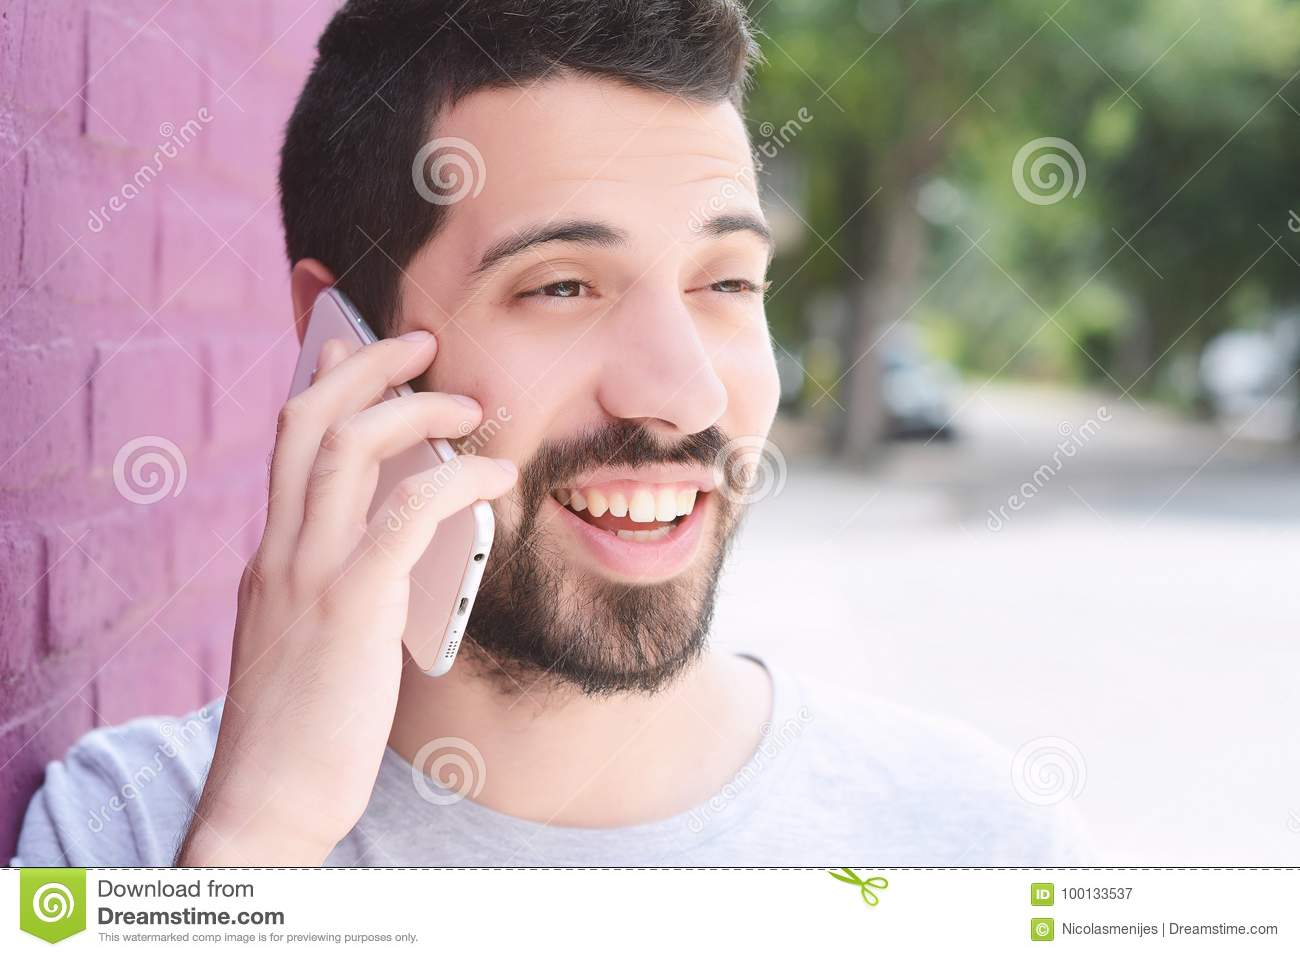phone: (289, 290, 498, 679)
talk: (215, 174, 784, 850)
